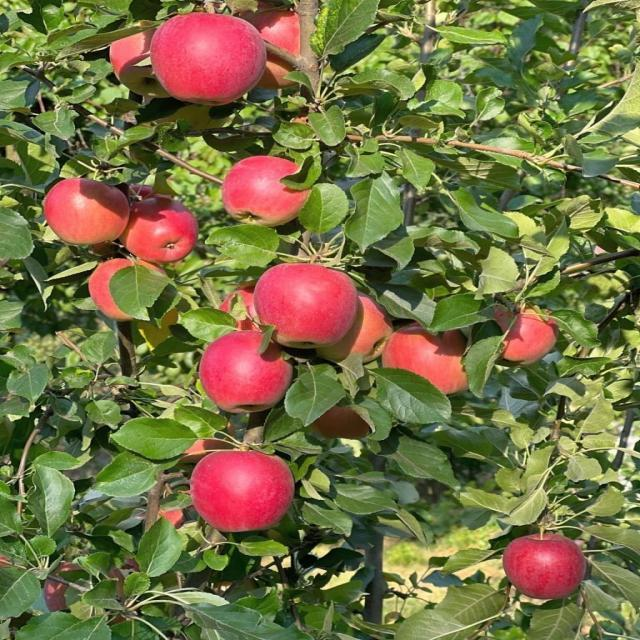Red Apple: (160, 13, 267, 105), (189, 451, 300, 528), (260, 268, 364, 343), (200, 333, 294, 408), (384, 327, 481, 392), (245, 9, 317, 92), (316, 292, 399, 362), (502, 534, 591, 597), (222, 157, 306, 221), (50, 178, 131, 243), (91, 259, 173, 314), (48, 562, 123, 620), (123, 201, 200, 257), (488, 308, 562, 363), (109, 26, 169, 89), (224, 282, 269, 343), (313, 401, 373, 443), (185, 421, 236, 457), (123, 179, 164, 221), (164, 498, 197, 540)
